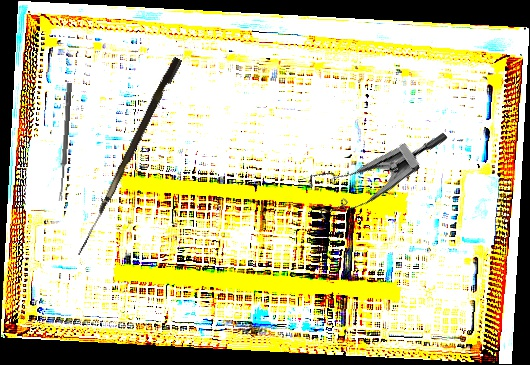Hook Surgical: (77, 55, 183, 260)
Speculum: (295, 87, 450, 242)
Surgical Spoon: (57, 82, 73, 202)
